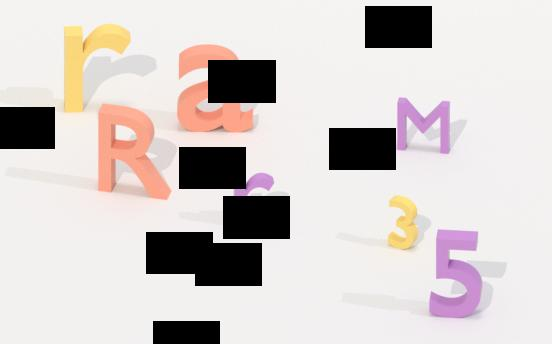3: (383, 192, 424, 254)
5: (429, 227, 487, 319)
M-hoa: (391, 95, 455, 154)
R: (59, 23, 141, 116), (230, 171, 281, 229)
R-hoa: (95, 104, 175, 203)
a: (169, 43, 258, 136)
